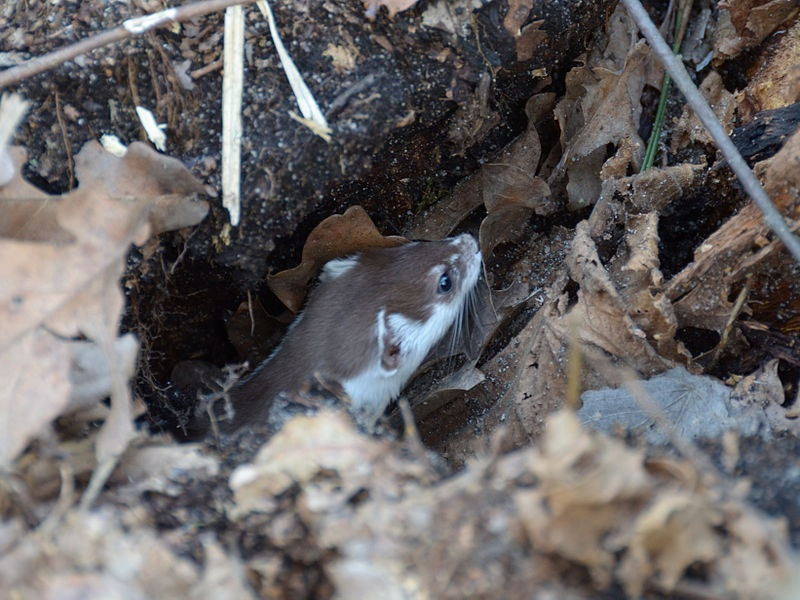minkish: (195, 223, 485, 483)
